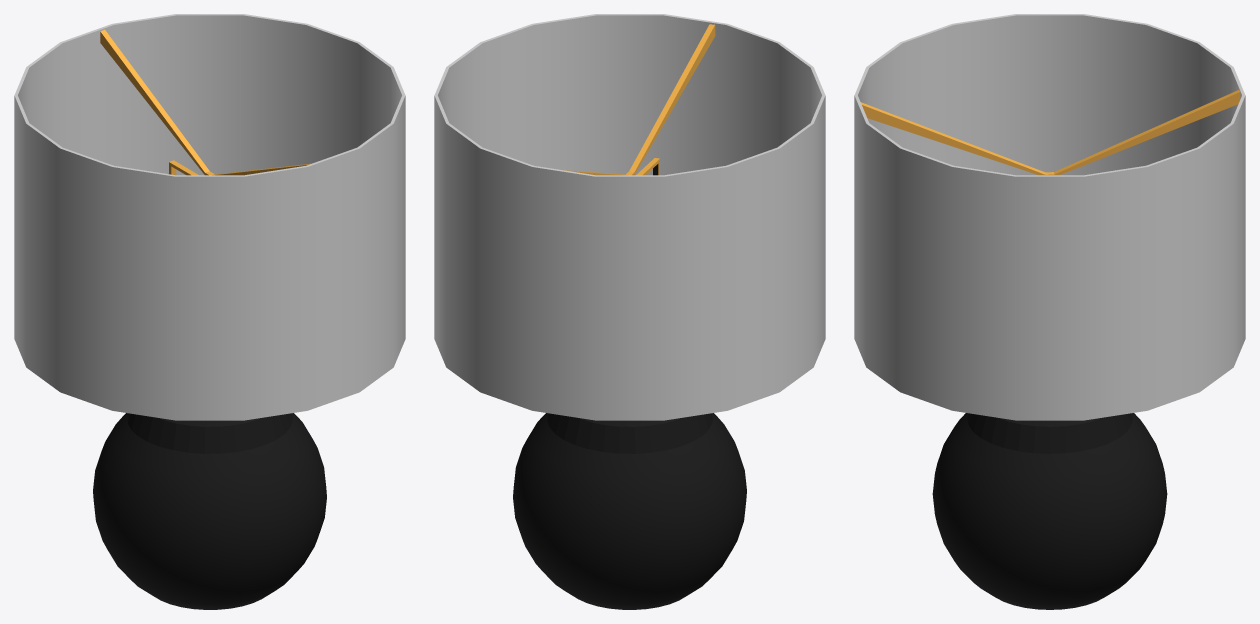
The model's file is lampe.fbx.
3 renders of one model, left to right at view 1: azimuth 30°, elevation 25°; view 2: azimuth 150°, elevation 25°; view 3: azimuth 270°, elevation 25°, orthographic.
Visible parts, largest first — view 1: Abat_Jour, Lampe; view 2: Abat_Jour, Lampe; view 3: Abat_Jour, Lampe.
Boxes of the visible parts, x1,y1,x2,y2 form: Abat_Jour: [14, 14, 405, 420]; Lampe: [93, 29, 326, 609]; Abat_Jour: [434, 14, 825, 420]; Lampe: [513, 24, 746, 609]; Abat_Jour: [854, 14, 1245, 420]; Lampe: [860, 90, 1240, 609].
Size of the model in its own units: 98.48 by 138 by 100.
